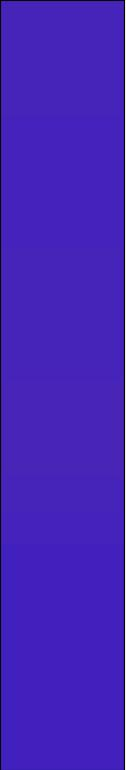safe: (9, 12, 119, 758)
